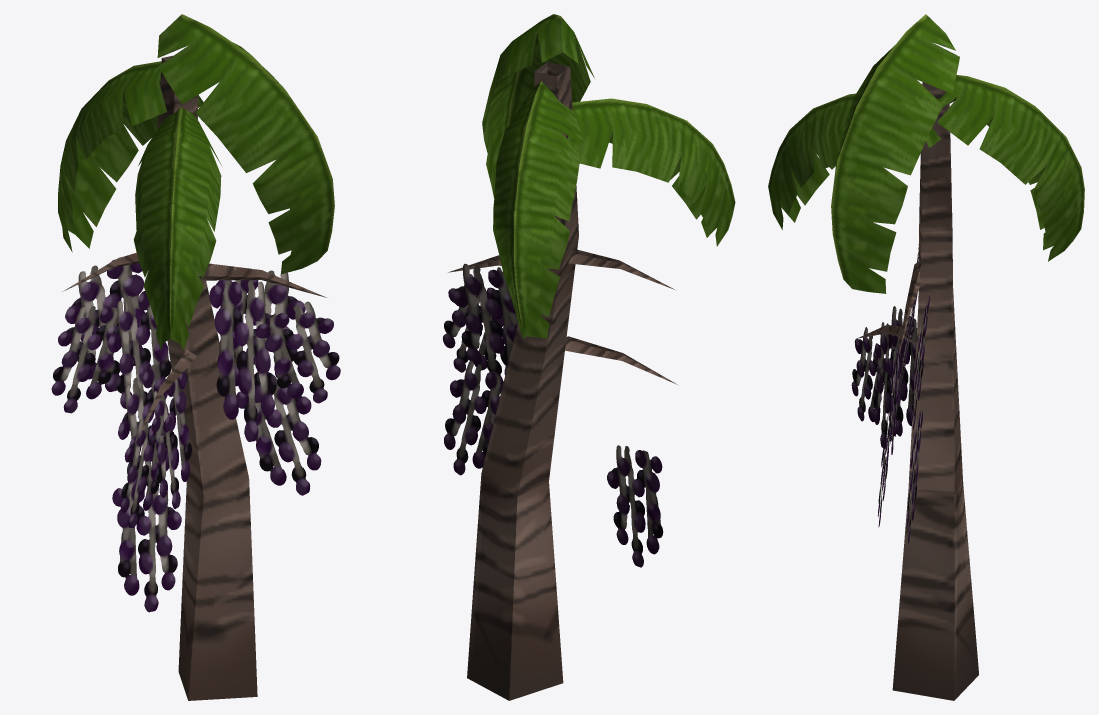
File: Tria_Nature_TreeVar03.fbx
3 views of the same model, side by side, from view 1: azimuth 30°, elevation 25°; view 2: azimuth 150°, elevation 25°; view 3: azimuth 270°, elevation 25° (orthographic). The views are drawn at different scales.
Parts seen in each view (by area): view 1: Tria_Nature_TreeVar03; view 2: Tria_Nature_TreeVar03; view 3: Tria_Nature_TreeVar03.
Boxes of the visible parts, x1,y1,x2,y2 form: Tria_Nature_TreeVar03: [51, 14, 340, 700]; Tria_Nature_TreeVar03: [442, 14, 735, 700]; Tria_Nature_TreeVar03: [768, 14, 1084, 700].
Size of the model in its own units: 403 by 758 by 335.
